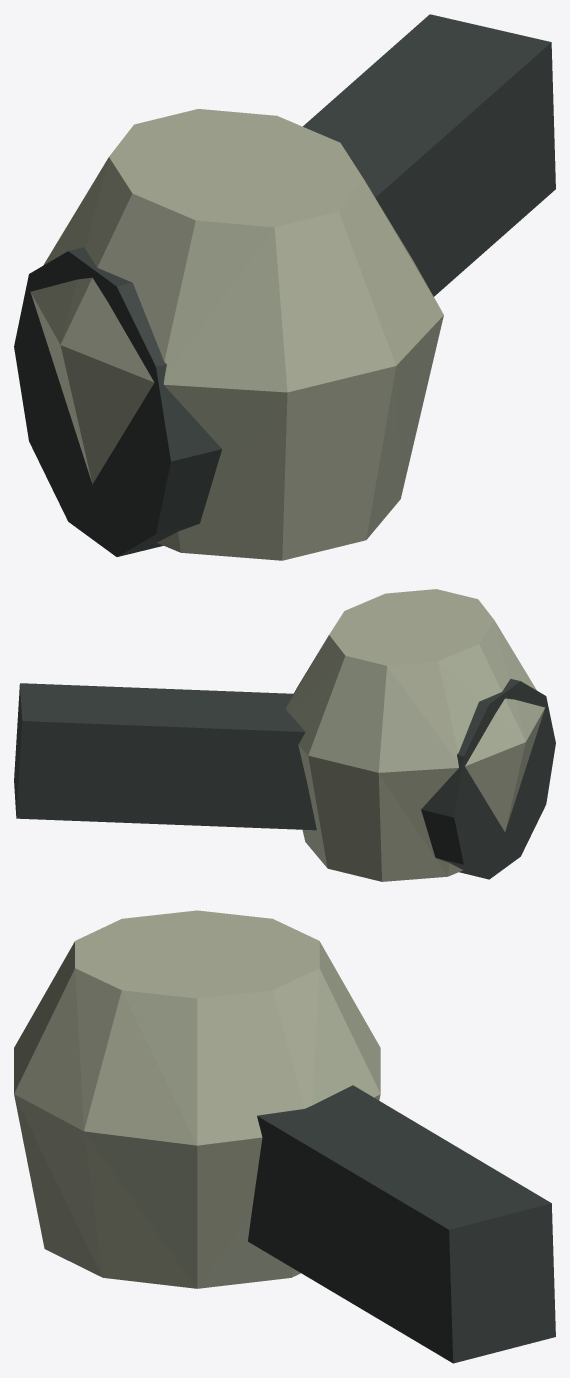
Rendered from scyther_arm_right.obj.
The picture shows the model from 3 angles, top to bottom: view 1: azimuth 30°, elevation 25°; view 2: azimuth 150°, elevation 25°; view 3: azimuth 270°, elevation 25°; orthographic projection. The views are drawn at different scales.
Parts seen in each view (by area): view 1: scyther_arm_right; view 2: scyther_arm_right; view 3: scyther_arm_right.
Part boxes in pixels (left/top/right/bottom): scyther_arm_right: left=14, top=14, right=555, bottom=560; scyther_arm_right: left=14, top=589, right=555, bottom=881; scyther_arm_right: left=14, top=910, right=555, bottom=1363.
Bounding box in the file's own units: 0.4017 × 0.2008 × 0.3374.
